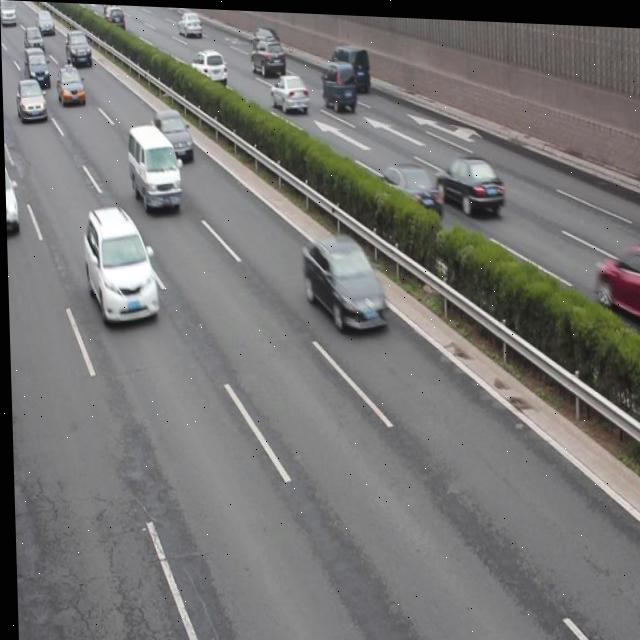car: (301, 228, 387, 332), (83, 208, 158, 326), (434, 152, 503, 212), (376, 159, 442, 216), (152, 109, 193, 161), (320, 59, 355, 110), (268, 71, 309, 110), (250, 35, 285, 76), (16, 80, 47, 125), (190, 48, 227, 85), (55, 64, 84, 107), (24, 49, 51, 90), (4, 162, 18, 233), (66, 30, 92, 67), (250, 26, 279, 51), (177, 10, 202, 35), (24, 25, 45, 54), (104, 5, 126, 31), (36, 8, 55, 36)
truck: (126, 124, 181, 214), (328, 41, 369, 89)
